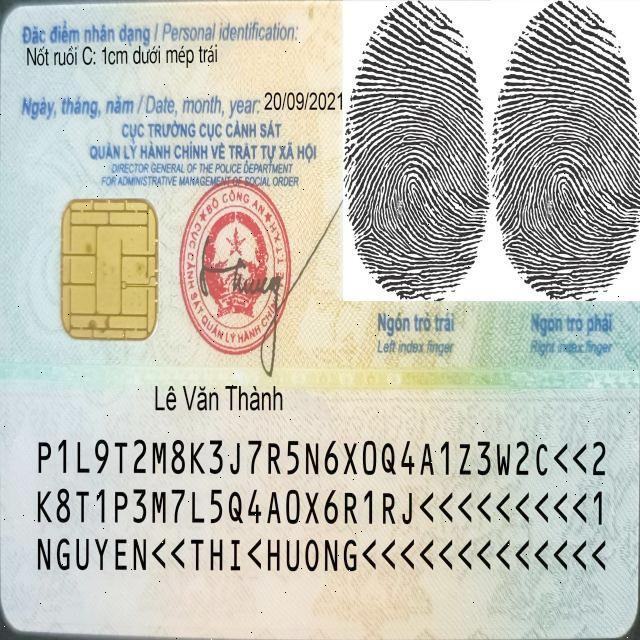features: (22, 36, 231, 74)
finger_print: (342, 0, 492, 358), (491, 0, 640, 357)
issue_date: (261, 86, 345, 116)
